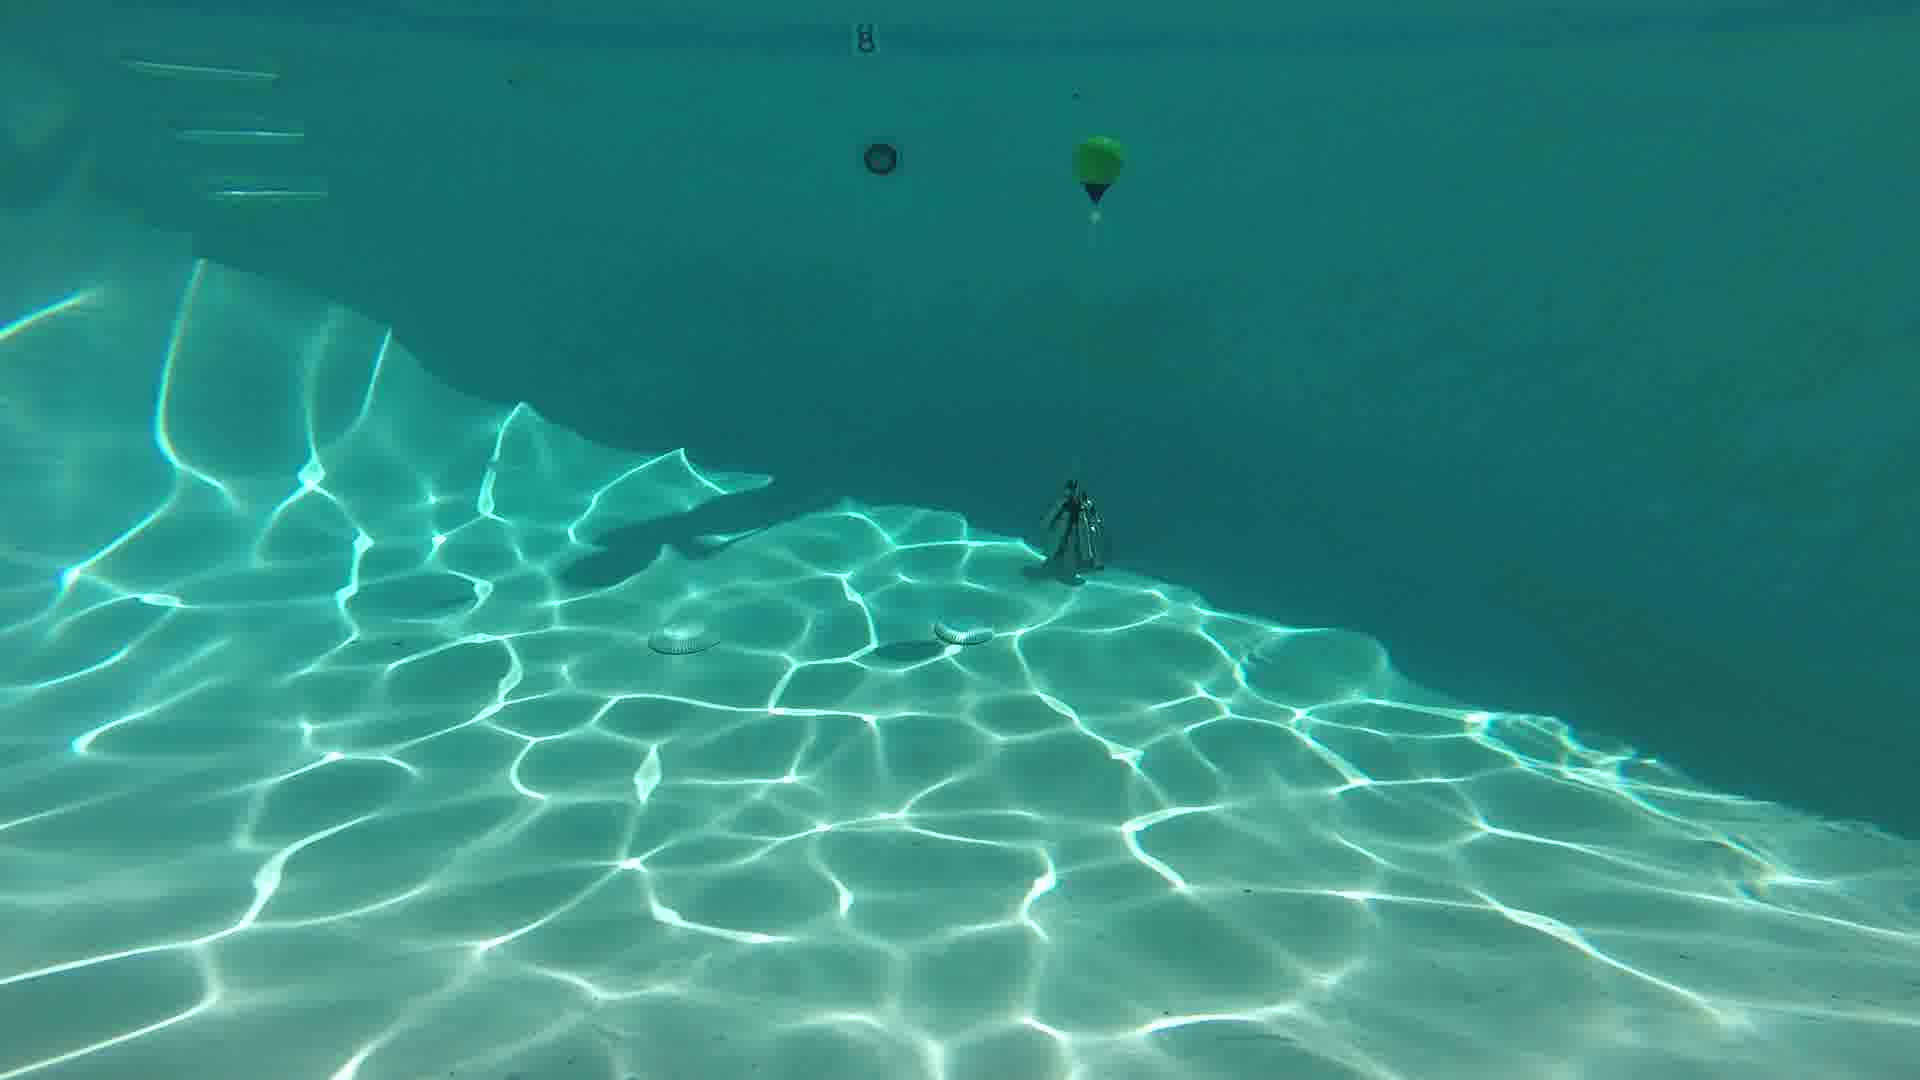yellow_buoy: (1075, 136, 1121, 204)
